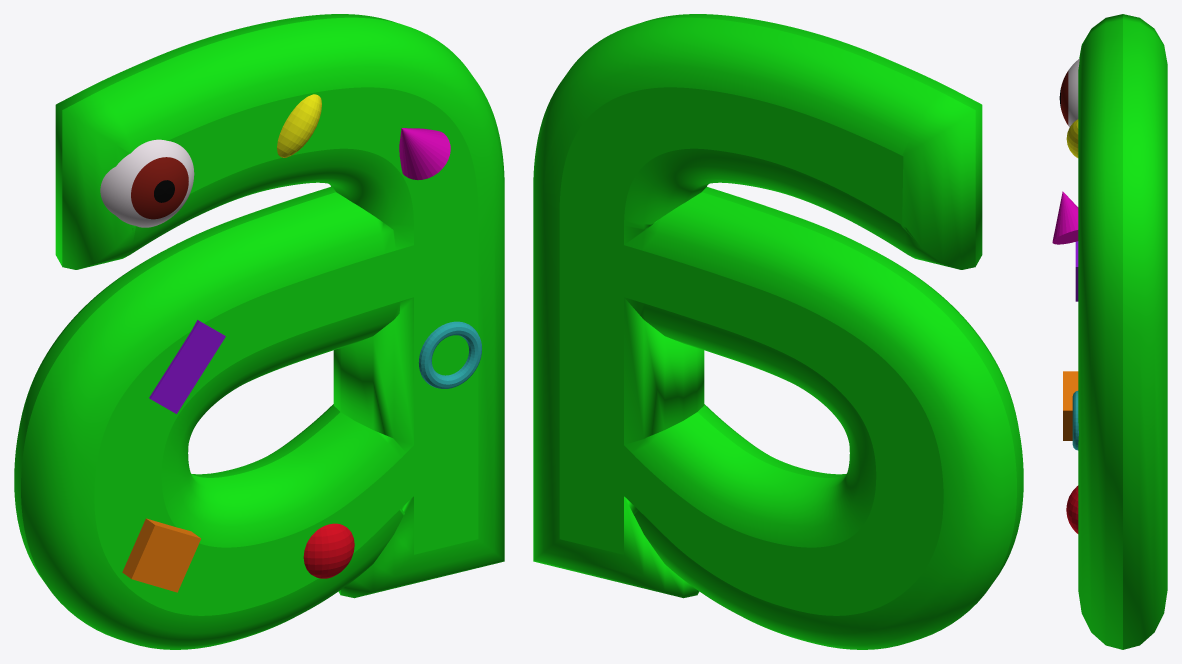
File: a_green.fbx
3 views of the same model, side by side, from view 1: azimuth 30°, elevation 25°; view 2: azimuth 150°, elevation 25°; view 3: azimuth 270°, elevation 25° (orthographic). The views are drawn at different scales.
Parts seen in each view (by area): view 1: Text, Sphere, Cube, Cube.001, Cone, Torus, Sphere.001, Sphere.002; view 2: Text; view 3: Text, Cone, Sphere, Cube, Sphere.001, Torus, Sphere.002, Cube.001.
Boxes of the visible parts, box(x1,y1,x2,y2) form: Text: box(14, 14, 504, 649); Sphere: box(100, 139, 194, 227); Cube: box(122, 518, 200, 592); Cube.001: box(149, 320, 225, 413); Cone: box(399, 128, 450, 179); Torus: box(418, 321, 481, 388); Sphere.001: box(303, 523, 354, 578); Sphere.002: box(277, 94, 321, 157); Text: box(533, 14, 1023, 649); Text: box(1078, 14, 1167, 649); Cone: box(1052, 191, 1078, 244); Sphere: box(1059, 59, 1079, 127); Cube: box(1063, 371, 1078, 440); Sphere.001: box(1066, 485, 1078, 533); Torus: box(1072, 391, 1078, 450); Sphere.002: box(1066, 119, 1078, 157); Cube.001: box(1075, 241, 1078, 301).
Size of the model in its own units: 101 by 121 by 25.46.
